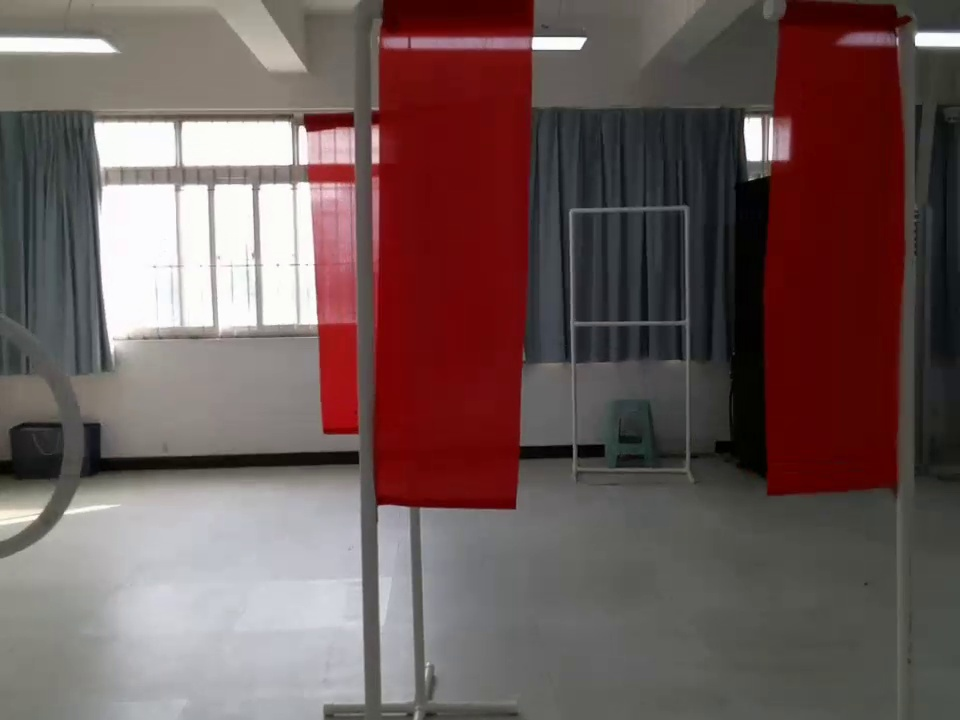qi: (381, 3, 537, 509), (767, 6, 909, 500), (287, 100, 383, 442)
